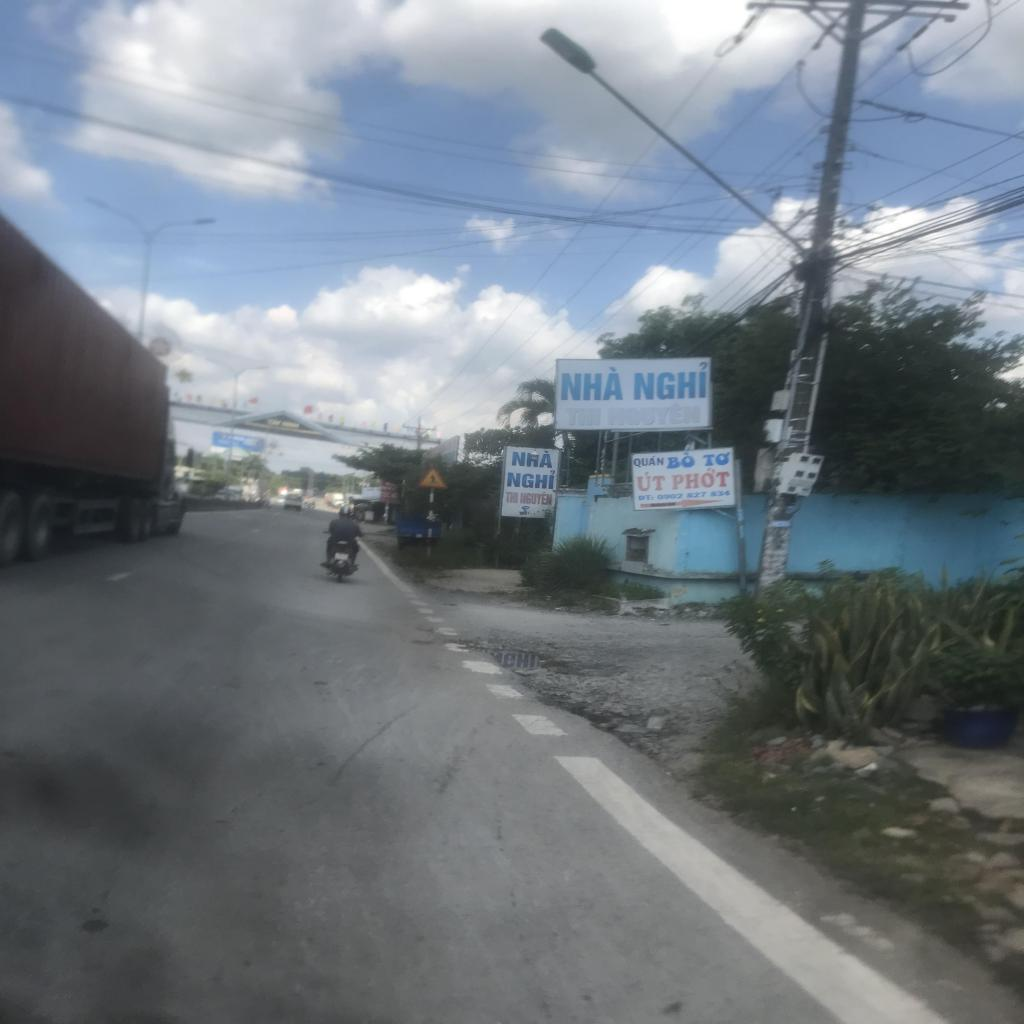chu_y_nguoi_di_bo_cat_ngang: (416, 465, 449, 489)
